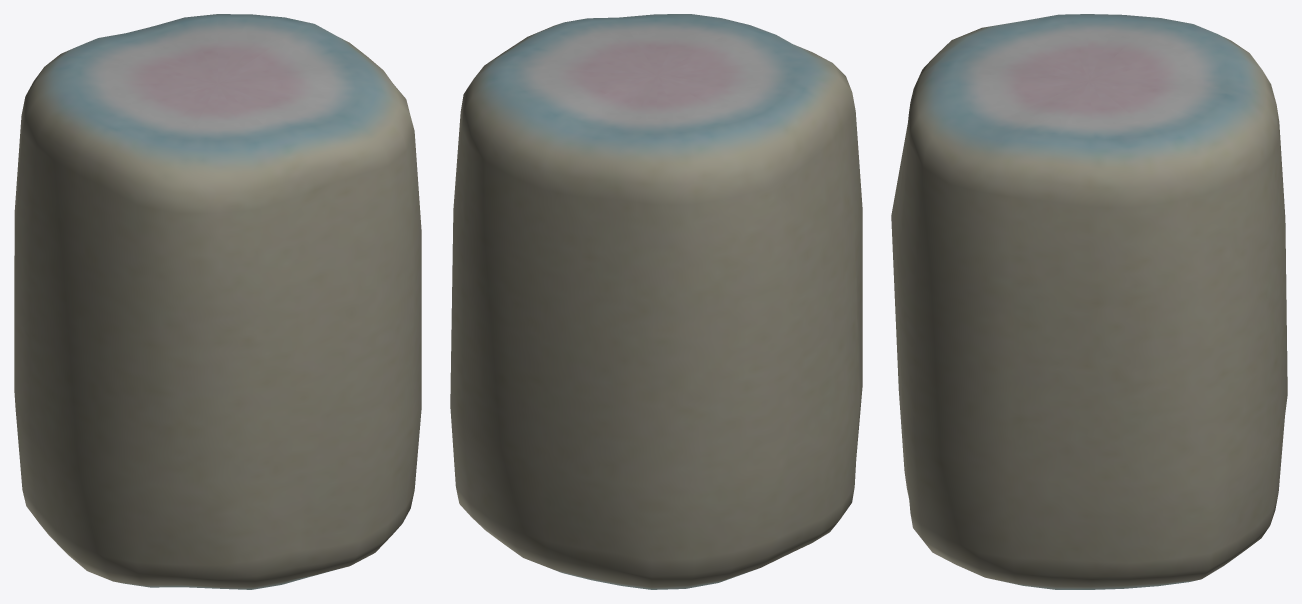
Rendered from Marshmallow.glb.
3 renders of one model, left to right at view 1: azimuth 30°, elevation 25°; view 2: azimuth 150°, elevation 25°; view 3: azimuth 270°, elevation 25°, orthographic.
Visible parts, largest first — view 1: geometry_0; view 2: geometry_0; view 3: geometry_0.
Boxes of the visible parts, left/top/right/bottom form: geometry_0: left=14, top=14, right=421, bottom=589; geometry_0: left=450, top=14, right=862, bottom=589; geometry_0: left=891, top=14, right=1287, bottom=589.
Size of the model in its own units: 0.7938 by 1.02 by 0.8029.
Materials: 1 (1 with a texture image).
